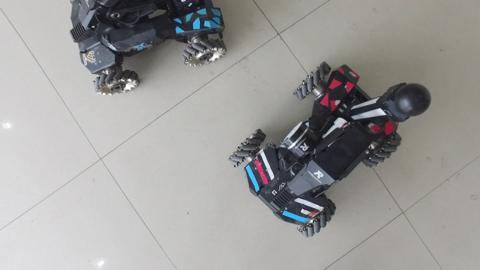chariot: (227, 43, 435, 240), (60, 1, 250, 99)
